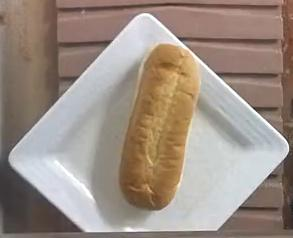bread: (118, 43, 198, 208)
